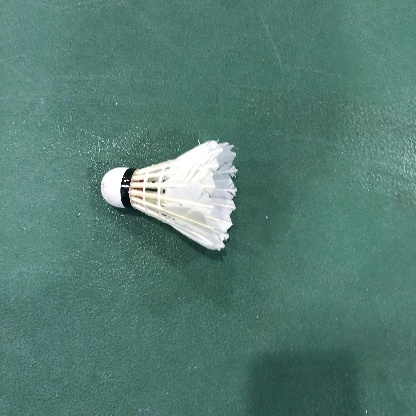ball_single: (101, 140, 238, 250)
